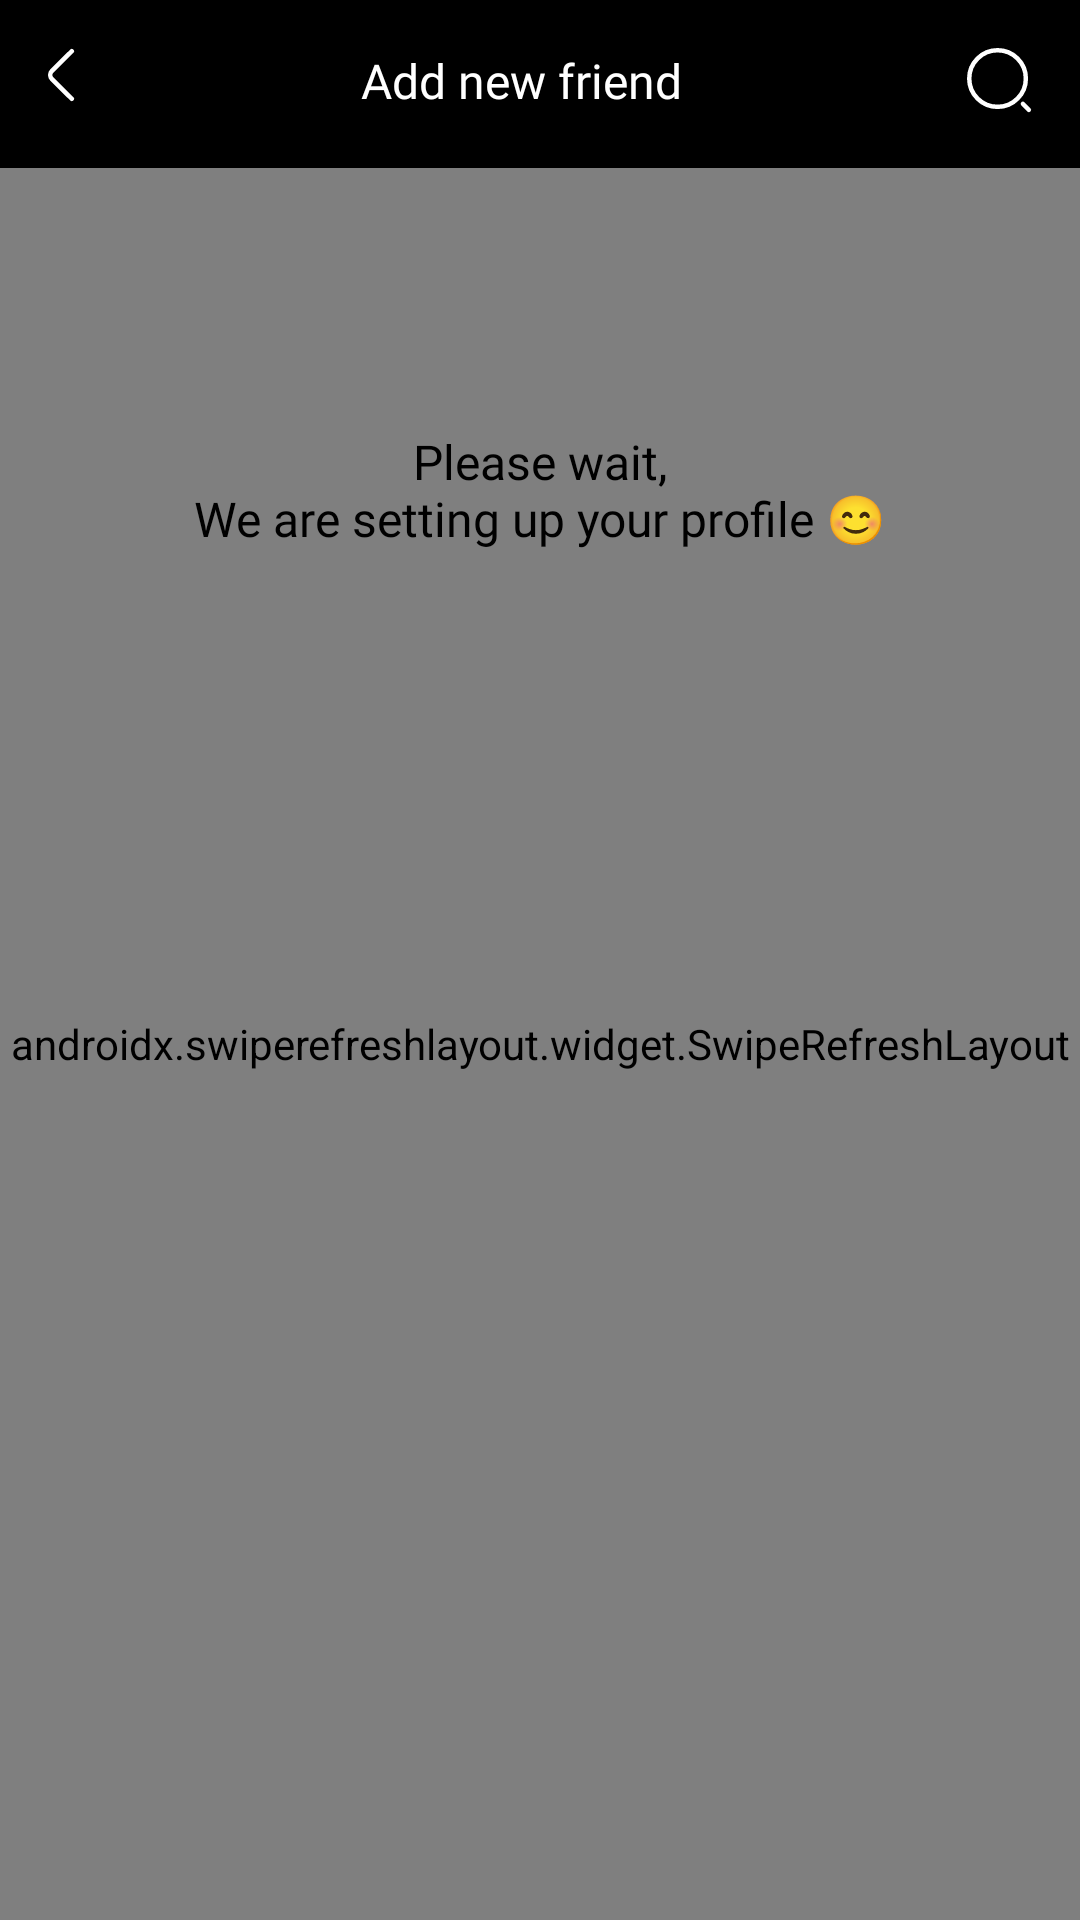

Icon click points for this 1080w x 1920h phone screenshot, format (x=x, y=y):
back: (x=61, y=75)
search: (x=999, y=80)
